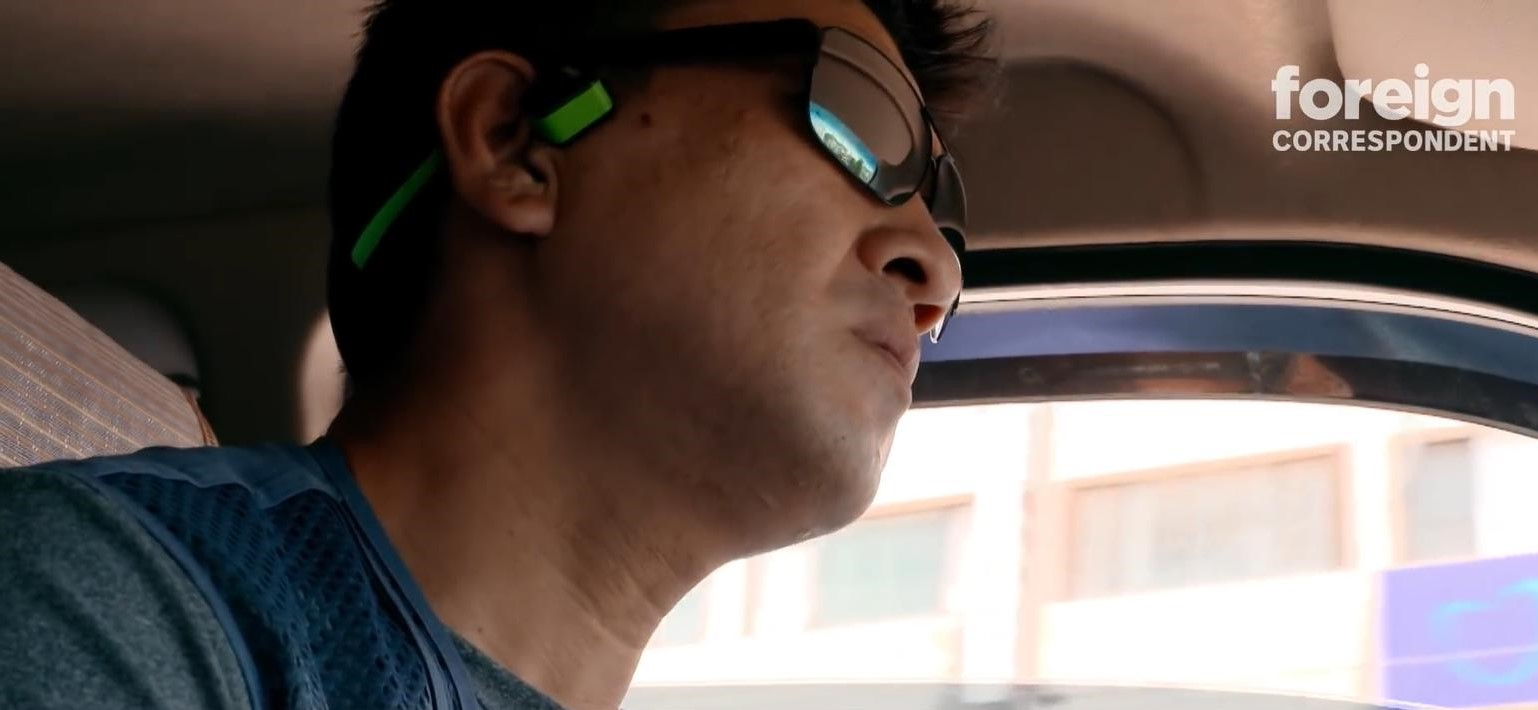without_mask: (578, 137, 934, 467)
